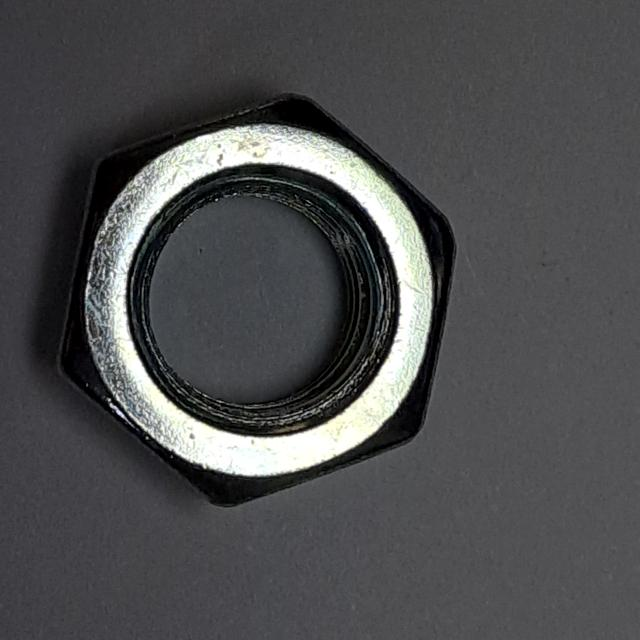Excellent: (50, 79, 472, 519)
